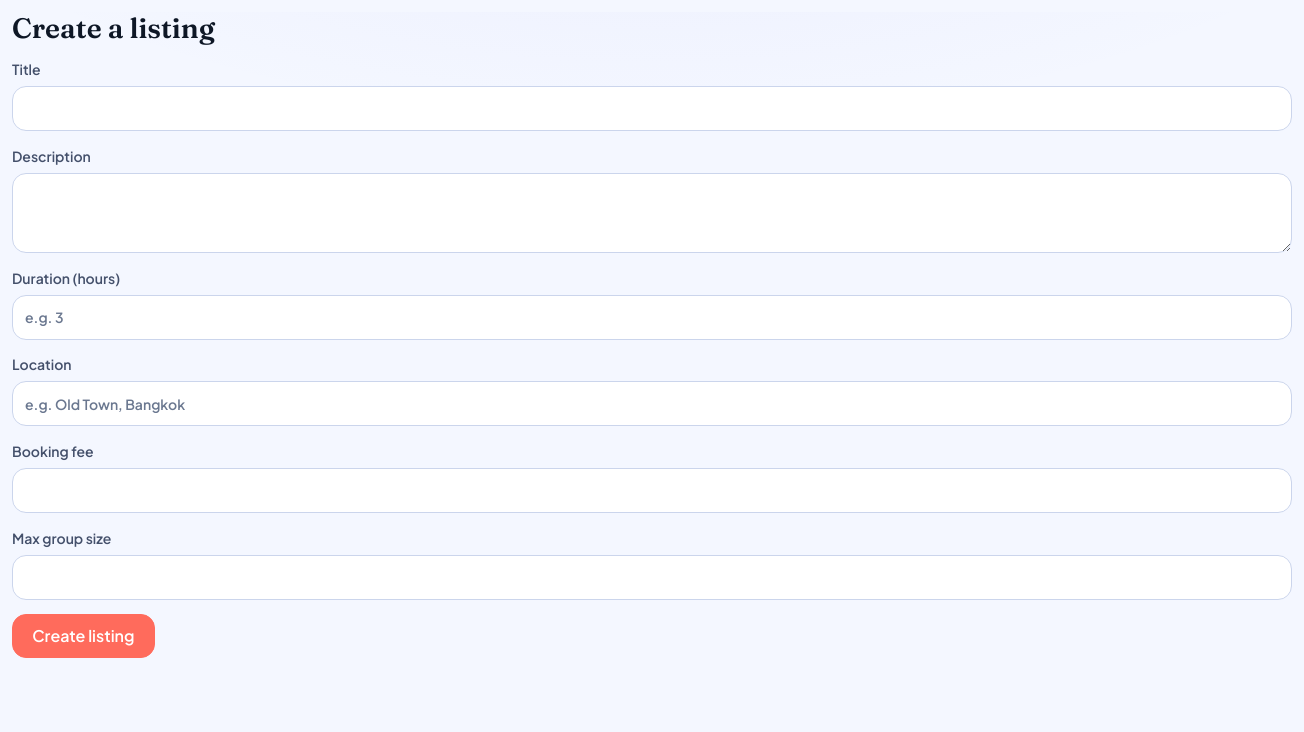
Test: CreatePostForm › shows a network error message when the server is unreachable
In the field labelled "Title": (652, 109) [12,86,1292,131], type "Sunset Hike"
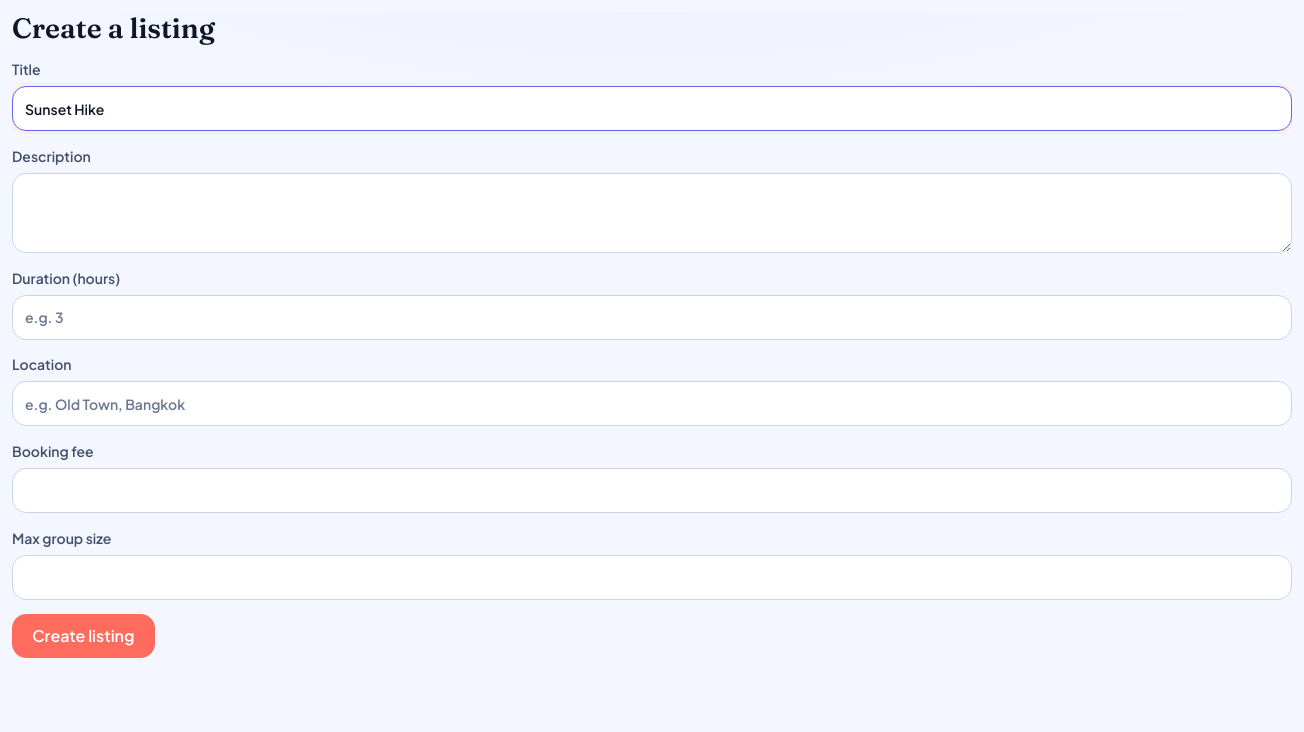
In the number field labelled "Booking fee": (652, 491) [12,468,1292,513], type "25"
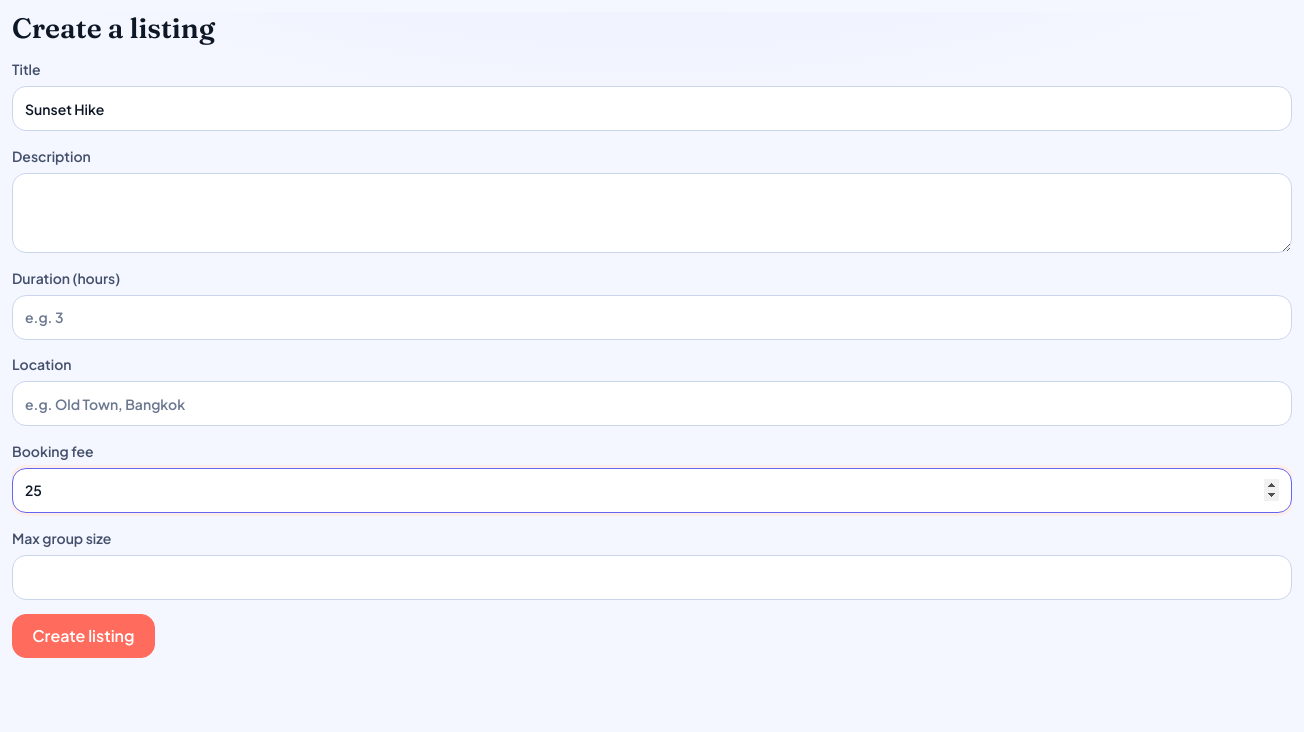
In the number field labelled "Max group size": (652, 577) [12,555,1292,600], type "6"
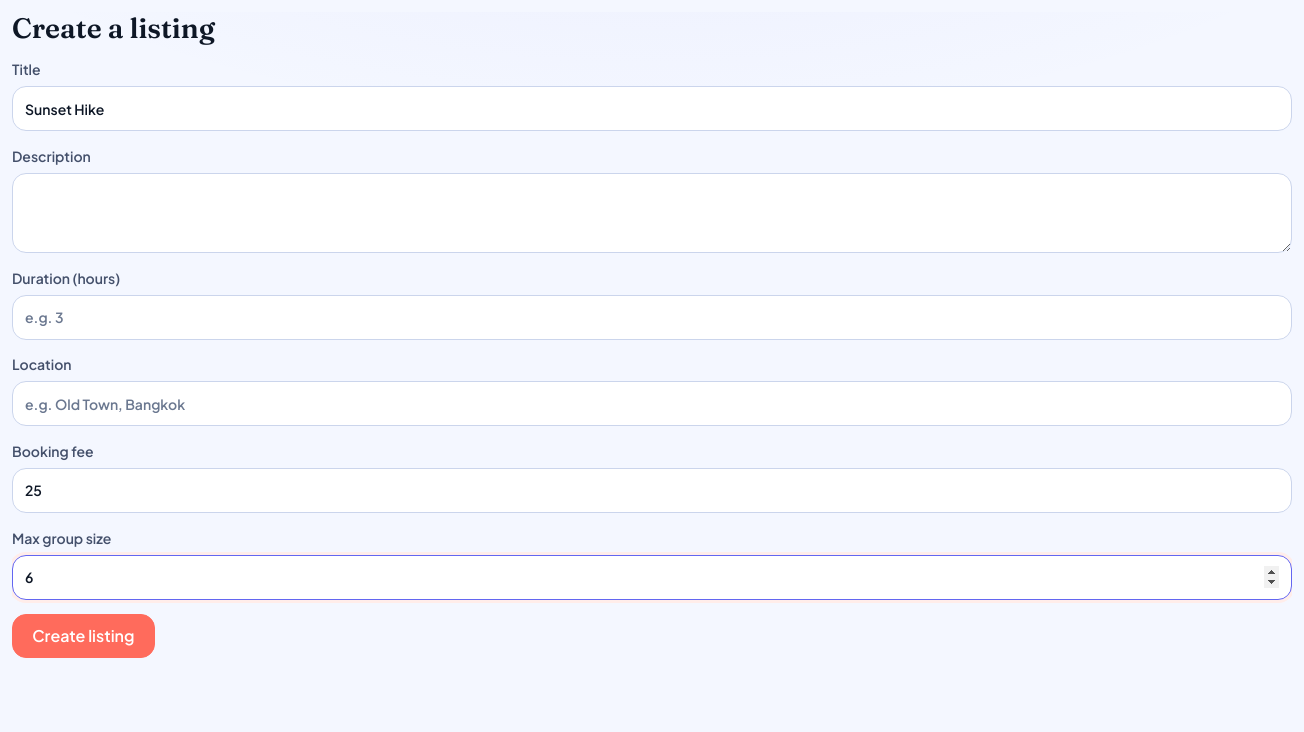
Click the button "Create listing": (83, 636) [12,614,155,658]
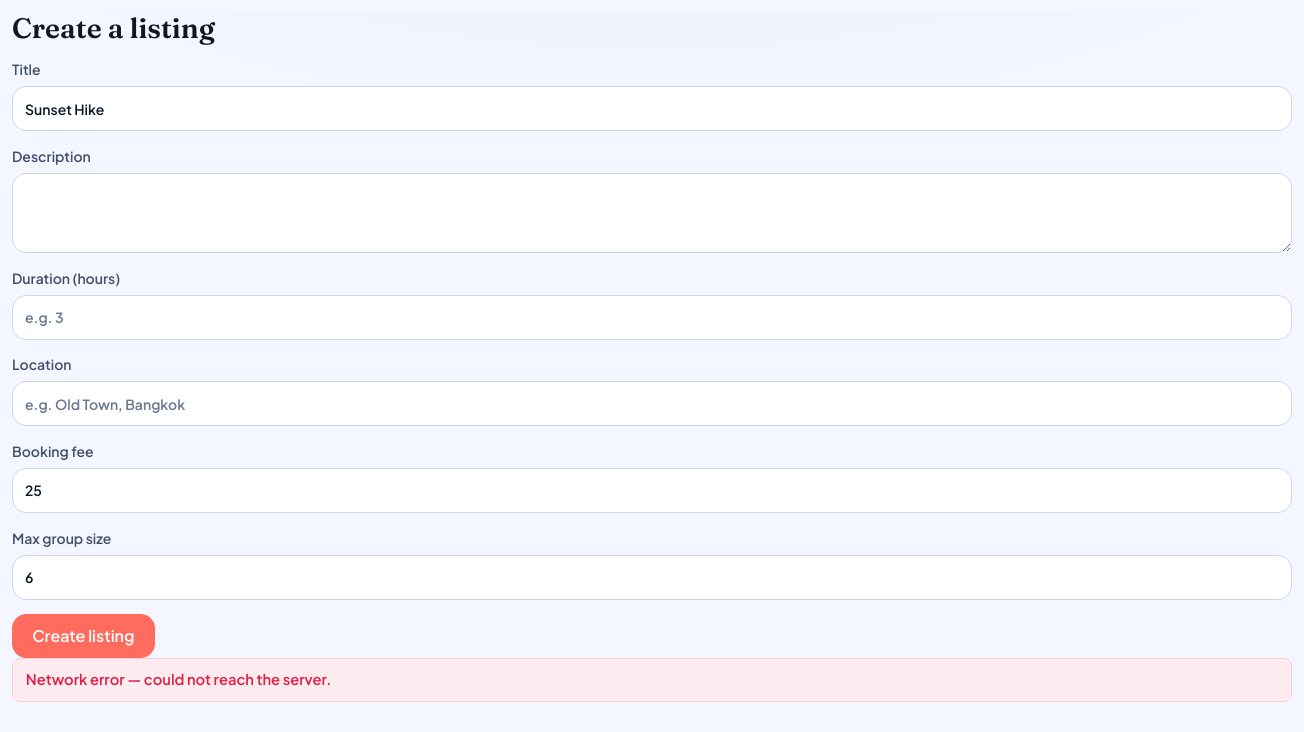
Check: the message shows "Network error", box [26,670,331,688]
